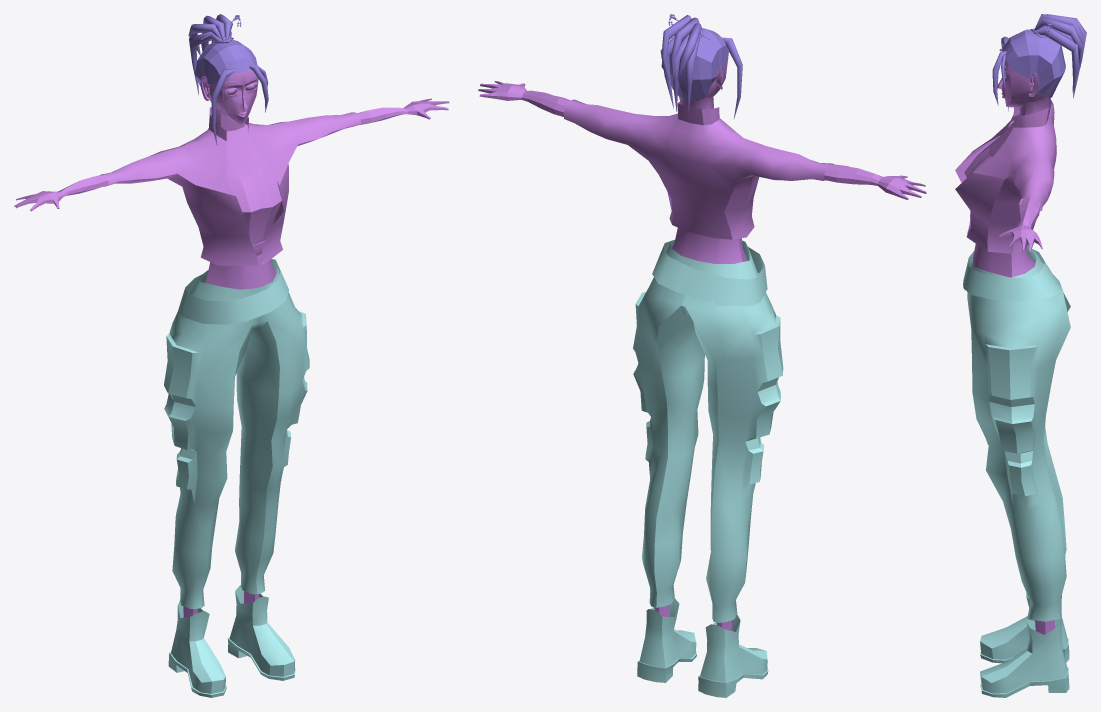
File: Personaje 4 sin arma.fbx
3 views of the same model, side by side, from view 1: azimuth 30°, elevation 25°; view 2: azimuth 150°, elevation 25°; view 3: azimuth 270°, elevation 25° (orthographic). The views are drawn at different scales.
Visible parts, largest first — view 1: Pantalon, Chumpa, Cuerpo, Cabellera, Zapato001, Zapato, Chincho, Blusa, Guantes_extendidos; view 2: Pantalon, Chumpa, Cabellera, Chincho, Zapato, Cuerpo, Zapato001, Guantes_extendidos; view 3: Pantalon, Chumpa, Cabellera, Zapato001, Cuerpo, Chincho, Zapato, Guantes_extendidos, Blusa.
Part boxes in pixels (<box>): Pantalon: <box>164,262,309,608</box>; Chumpa: <box>100,107,361,265</box>; Cuerpo: <box>14,69,449,617</box>; Cabellera: <box>188,14,268,145</box>; Zapato001: <box>227,585,295,680</box>; Zapato: <box>168,601,226,697</box>; Chincho: <box>178,259,288,324</box>; Blusa: <box>225,165,281,255</box>; Guantes_extendidos: <box>32,101,429,203</box>; Pantalon: <box>633,240,783,622</box>; Chumpa: <box>563,99,833,239</box>; Cabellera: <box>660,15,742,119</box>; Chincho: <box>652,239,767,305</box>; Zapato: <box>698,614,768,697</box>; Cuerpo: <box>478,60,926,630</box>; Zapato001: <box>637,599,696,682</box>; Guantes_extendidos: <box>496,83,906,194</box>; Pantalon: <box>967,246,1070,621</box>; Chumpa: <box>955,99,1056,253</box>; Cabellera: <box>992,14,1086,111</box>; Zapato001: <box>980,618,1069,697</box>; Cuerpo: <box>972,37,1054,634</box>; Chincho: <box>963,249,1058,300</box>; Zapato: <box>980,592,1069,663</box>; Guantes_extendidos: <box>1011,197,1040,238</box>; Blusa: <box>964,138,997,177</box>.
Size of the model in its own units: 79.23 by 113 by 20.42.
